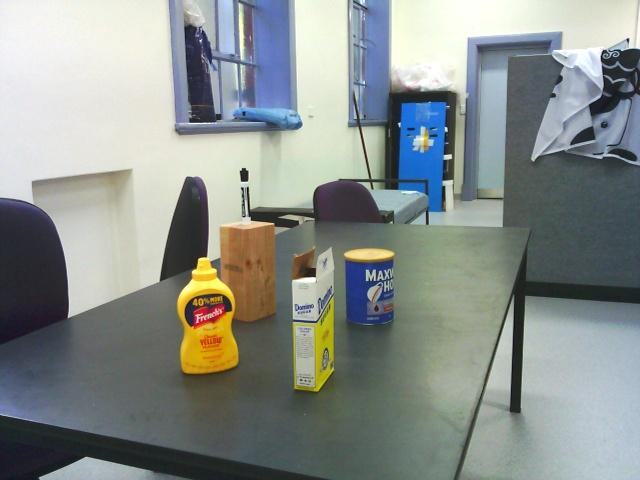002_master_chef_can: (340, 248, 395, 329)
004_sugar_box: (284, 244, 338, 396)
006_mustard_bottle: (170, 255, 244, 375)
040_large_marker: (215, 219, 278, 324), (238, 165, 254, 222)
